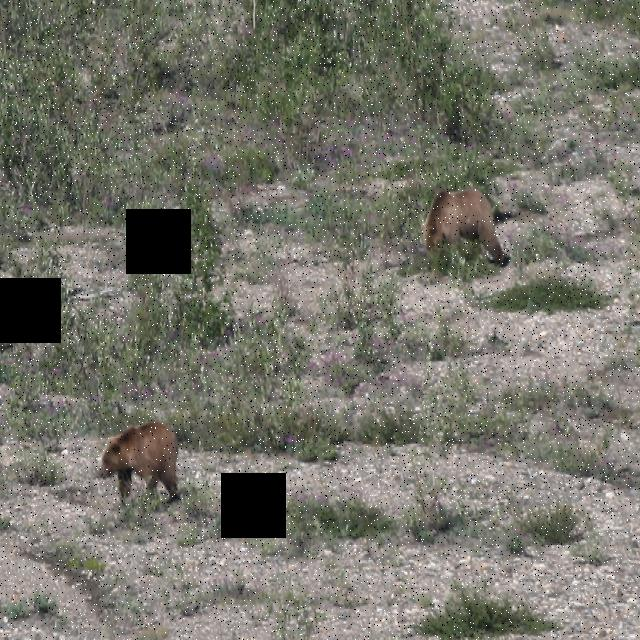Bear: (421, 182, 512, 266), (96, 416, 183, 494)
